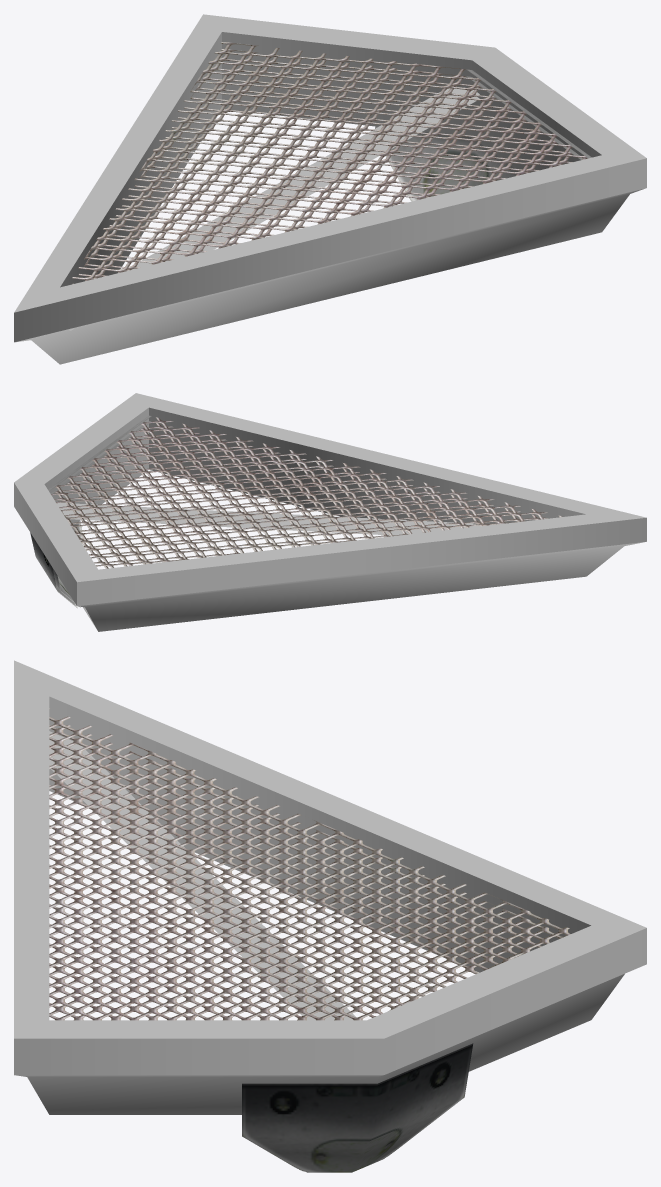
File: Floor_F_2'5qmts_23.fbx
The picture shows the model from 3 angles, top to bottom: view 1: azimuth 30°, elevation 25°; view 2: azimuth 150°, elevation 25°; view 3: azimuth 270°, elevation 25°; orthographic projection. The views are drawn at different scales.
Parts seen in each view (by area): view 1: frame_, grid_, details_; view 2: frame_, grid_, details_; view 3: frame_, grid_, details_.
Boxes of the visible parts, x1=… form: frame_: x1=14, y1=14, x2=646, y2=364; grid_: x1=72, y1=42, x2=591, y2=283; details_: x1=375, y1=126, x2=522, y2=201; frame_: x1=14, y1=393, x2=646, y2=631; grid_: x1=48, y1=415, x2=562, y2=568; details_: x1=30, y1=520, x2=83, y2=608; frame_: x1=14, y1=660, x2=646, y2=1114; grid_: x1=49, y1=708, x2=570, y2=1020; details_: x1=242, y1=1043, x2=473, y2=1172.
Size of the model in its own units: 241 by 49.97 by 171.
